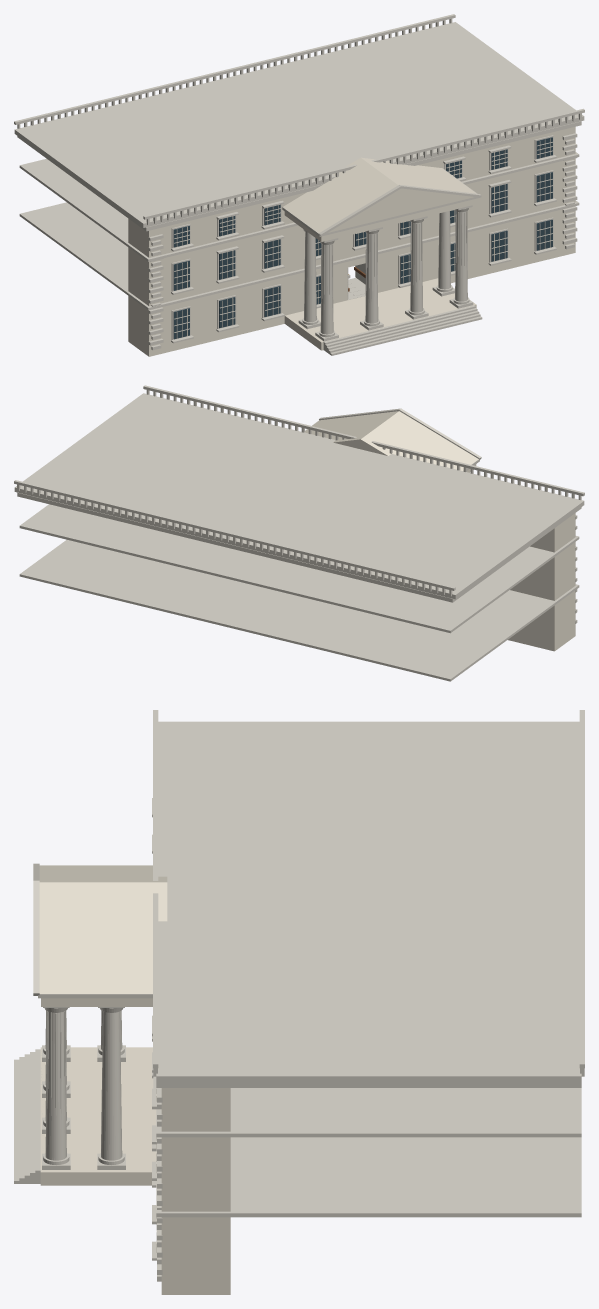
Rendered from white-house-structure.glb.
The picture shows the model from 3 angles, top to bottom: view 1: azimuth 30°, elevation 25°; view 2: azimuth 150°, elevation 25°; view 3: azimuth 270°, elevation 25°; orthographic projection. The views are drawn at different scales.
Parts seen in each view (by area): view 1: Cube.008, Cube.001, Cube.002, Giebel, Cube.005, Cube.006, Cube.433, Cube.075, Cube.009, Cube.007, Cube.431, Cone.001 (+18 smaller); view 2: Cube.008, Cube.005, Cube.006, Cube.001, Giebel, Cube.007, Cube.075, Cube.009; view 3: Cube.008, Cube.005, Cube.006, Giebel, Cube.002, Cube.433, Cone.016, Cone.013, Cube.075, Cube.007, Cube.009, Cube.431 (+6 smaller).
Part boxes in pixels (<box>): Cube.008: <box>14,22,584,227</box>; Cube.001: <box>128,192,347,356</box>; Cube.002: <box>357,126,575,292</box>; Giebel: <box>283,157,476,232</box>; Cube.005: <box>19,200,579,310</box>; Cube.006: <box>19,152,579,261</box>; Cube.433: <box>284,278,476,350</box>; Cube.075: <box>14,14,455,124</box>; Cube.009: <box>143,108,584,219</box>; Cube.007: <box>17,121,581,231</box>; Cube.431: <box>284,199,476,241</box>; Cone.001: <box>320,244,333,334</box>; Cube.008: <box>14,393,584,599</box>; Cube.005: <box>19,540,579,681</box>; Cube.006: <box>19,504,579,633</box>; Cube.001: <box>508,513,575,651</box>; Giebel: <box>305,411,478,470</box>; Cube.007: <box>17,492,581,602</box>; Cube.075: <box>14,480,455,590</box>; Cube.009: <box>143,385,584,496</box>; Cube.008: <box>156,721,581,1083</box>; Cube.005: <box>156,1137,581,1217</box>; Cube.006: <box>156,1088,581,1137</box>; Giebel: <box>39,865,167,993</box>; Cube.002: <box>161,1088,230,1294</box>; Cube.433: <box>40,1047,156,1185</box>; Cone.016: <box>101,1011,122,1160</box>; Cone.013: <box>45,1011,66,1160</box>; Cube.075: <box>579,710,584,1068</box>; Cube.007: <box>156,1083,581,1087</box>; Cube.009: <box>153,710,158,1068</box>; Cube.431: <box>41,998,152,1006</box>.
Bounding box in the file's own units: 48.6 × 15.5 × 33.05.
